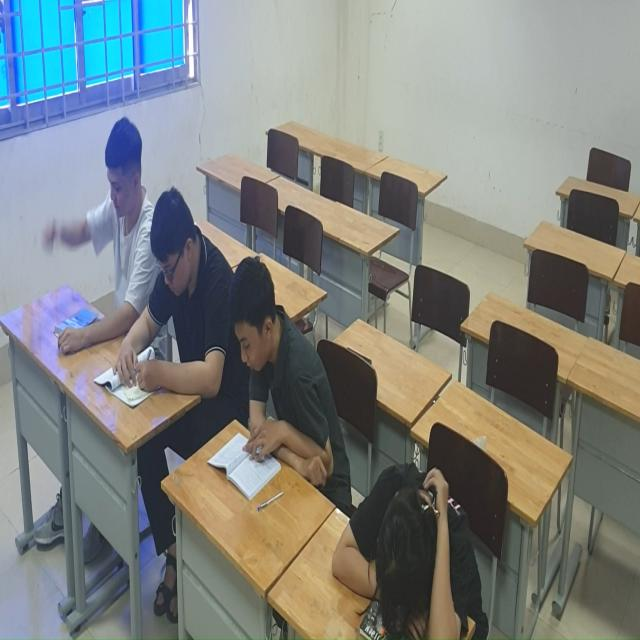read: (208, 252, 331, 505), (96, 184, 225, 414)
sleep: (329, 458, 490, 640)
